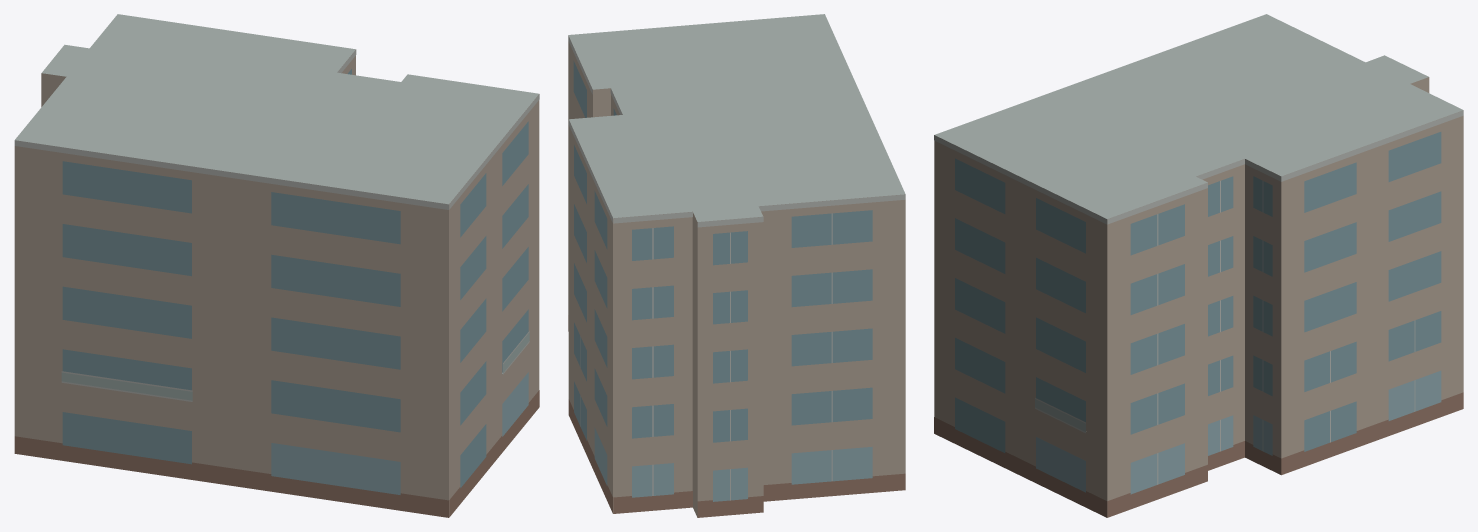
File: survey-upis-32628909.glb
3 views of the same model, side by side, from view 1: azimuth 30°, elevation 25°; view 2: azimuth 150°, elevation 25°; view 3: azimuth 270°, elevation 25° (orthographic). The views are drawn at different scales.
Visible parts, largest first — view 1: survey-upis-32628909.tmp; view 2: survey-upis-32628909.tmp; view 3: survey-upis-32628909.tmp.
Part boxes in pixels (x1,y1,x2,y2): survey-upis-32628909.tmp: (14, 14, 539, 517); survey-upis-32628909.tmp: (568, 14, 905, 517); survey-upis-32628909.tmp: (934, 14, 1463, 517).
Size of the model in its own units: 19.6 by 13.3 by 21.37.
